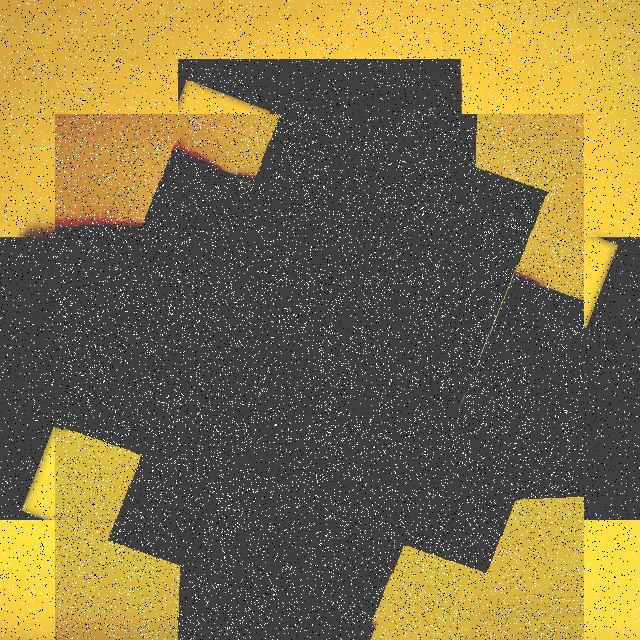lima puluh ribu rupiah: (55, 114, 584, 640)
